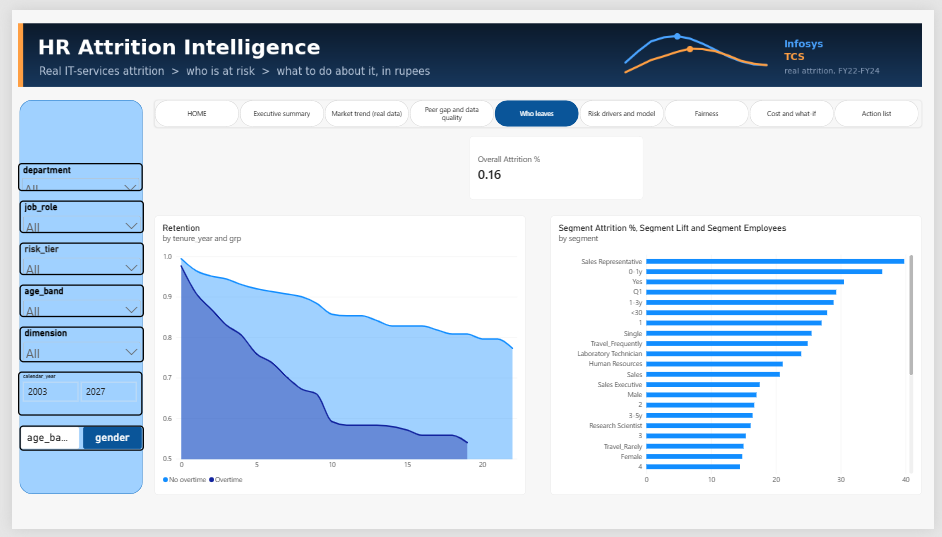

What the dashboard file says about the page in this screenshot:
{"tool":"powerbi","page":{"name":"Who leaves","canvas":[1920,1080],"ordinal":4},"visuals":[{"type":"image","box":[12.2,16.7,1883.3,156.7],"z":0},{"type":"actionButton","box":[43,334.2,62,42.1],"z":0,"group":"g1"},{"type":"shape","box":[15.3,188.5,256.8,820.8],"z":1000,"group":"g1"},{"type":"cardVisual","fields":{"Data":["_Measures.Overall Attrition %"]},"box":[954.4,262.5,362.7,133.6],"z":1000},{"type":"clusteredBarChart","fields":{"Category":["mart hr_attrition_by_segment.segment"],"Y":["_Measures.Segment Attrition %"]},"box":[1121.4,427.1,773,582],"z":2000},{"type":"slicer","fields":{"Values":["mart employee_action_list.job_role"]},"box":[14.8,397,259.6,67.8],"z":3000,"group":"g1"},{"type":"areaChart","fields":{"Category":["mart retention_curve.tenure_year"],"Series":["mart retention_curve.grp"],"Y":["_Measures.Retention"]},"box":[295.9,427.1,773,582.2],"z":3000},{"type":"pageNavigator","box":[295.9,188.5,1598.6,57.3],"z":4000},{"type":"slicer","fields":{"Values":["dim_risk_tier.risk_tier"]},"box":[15.4,484.8,259.6,68],"z":4000,"group":"g1"},{"type":"group","id":"g1","title":"Group 2","box":[11.9,188.5,262.5,820.8],"z":5000},{"type":"slicer","fields":{"Values":["staging hr_employee.age_band"]},"box":[14.2,572.8,259.6,67.8],"z":6000,"group":"g1"},{"type":"slicer","fields":{"Values":["mart hr_attrition_by_segment.dimension"]},"box":[16,660.6,259.6,74.4],"z":7000,"group":"g1"},{"type":"slicer","fields":{"Values":["mart employee_action_list.department"]},"box":[11.9,318.5,260.1,58.5],"z":7500,"group":"g1"},{"type":"slicer","fields":{"Values":["mart dim_quarter.calendar_year"]},"box":[13,755.1,259.6,91.9],"z":8000,"group":"g1"},{"type":"advancedSlicerVisual","fields":{"Values":["fairness_by_group.dimension"]},"box":[13.6,867,259.6,52.5],"z":9500,"group":"g1"}]}

Visuals, with their boxes on the page's 1920x1080 design canvas (x1, y1, x2, y2). These are canvas units, not pixel positions in the 942x537 screenshot, which may show the page scaled, cropped or inside an application window:
image: Rect(12, 17, 1896, 173)
actionButton: Rect(43, 334, 105, 376)
shape: Rect(15, 188, 272, 1009)
cardVisual - _Measures.Overall Attrition %: Rect(954, 262, 1317, 396)
clusteredBarChart - mart hr_attrition_by_segment.segment x _Measures.Segment Attrition %: Rect(1121, 427, 1894, 1009)
slicer - mart employee_action_list.job_role: Rect(15, 397, 274, 465)
areaChart - mart retention_curve.tenure_year x mart retention_curve.grp: Rect(296, 427, 1069, 1009)
pageNavigator: Rect(296, 188, 1894, 246)
slicer - dim_risk_tier.risk_tier: Rect(15, 485, 275, 553)
"Group 2" group: Rect(12, 188, 274, 1009)
slicer - staging hr_employee.age_band: Rect(14, 573, 274, 641)
slicer - mart hr_attrition_by_segment.dimension: Rect(16, 661, 276, 735)
slicer - mart employee_action_list.department: Rect(12, 318, 272, 377)
slicer - mart dim_quarter.calendar_year: Rect(13, 755, 273, 847)
advancedSlicerVisual - fairness_by_group.dimension: Rect(14, 867, 273, 920)
